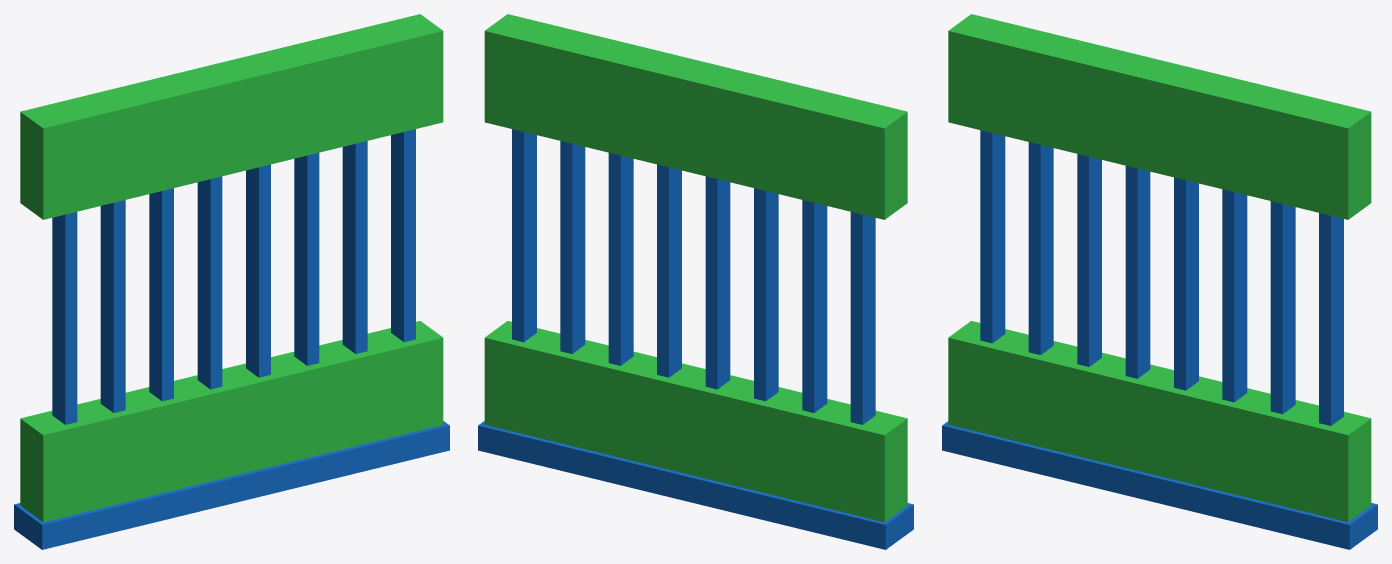
The model's file is SM_wall6.fbx.
The picture shows the model from 3 angles, left to right: view 1: azimuth 30°, elevation 25°; view 2: azimuth 150°, elevation 25°; view 3: azimuth 330°, elevation 25°; orthographic projection.
Parts seen in each view (by area): view 1: wall6; view 2: wall6; view 3: wall6.
Part boxes in pixels (box(x1,y1,x2,y2)): wall6: box(14, 14, 449, 549); wall6: box(478, 14, 913, 549); wall6: box(942, 14, 1377, 549).
Size of the model in its own units: 306 by 300 by 36.55.
